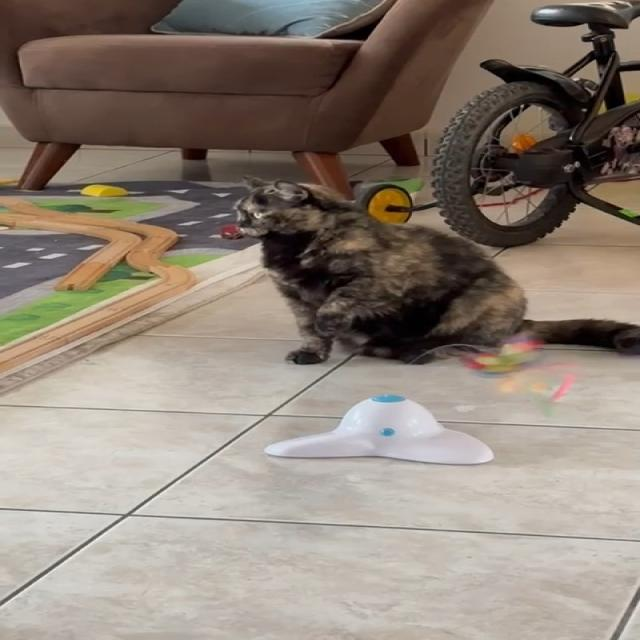authorized: (222, 174, 638, 366)
